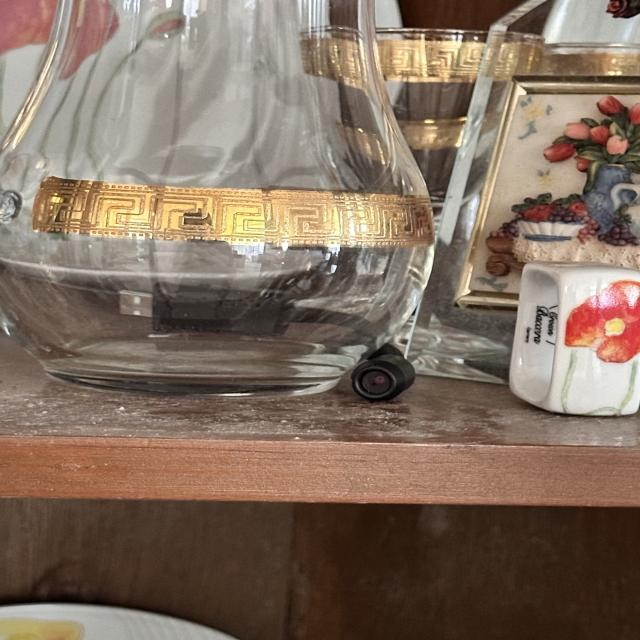hidden camera: (351, 365, 399, 400)
